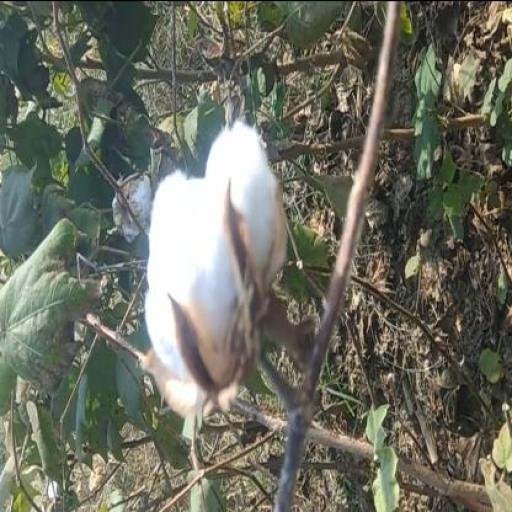cotton_ready: (124, 123, 330, 443)
